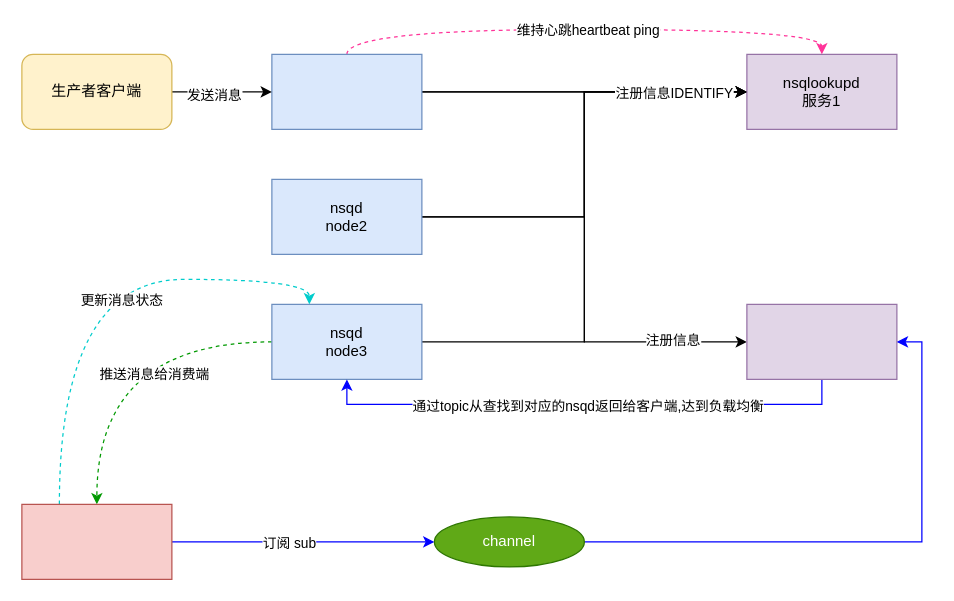
This 954x601 diagram has some shape labels left out. Each missing label, with the centre of its shape:
nsqd node1: the point at 346,91
nsqlookupd 服务2: the point at 821,341
消费者客户端: the point at 96,541
